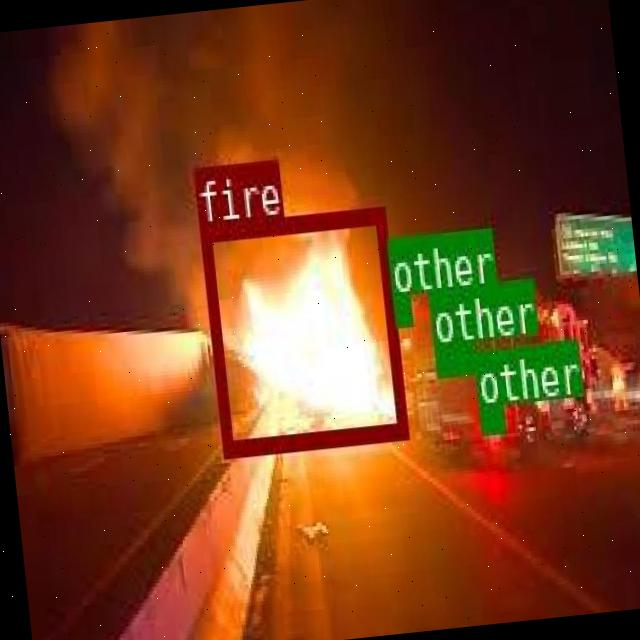fire: (198, 206, 406, 454)
